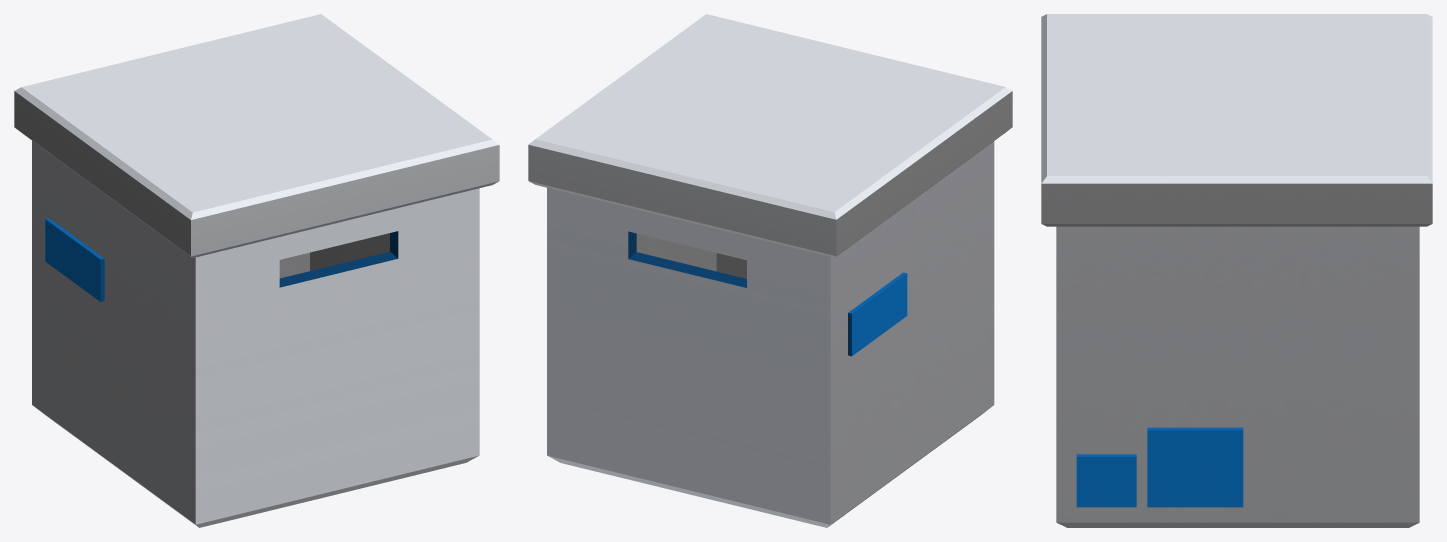
Rendered from SM_ArchiveBox02.fbx.
3 renders of one model, left to right at view 1: azimuth 30°, elevation 25°; view 2: azimuth 150°, elevation 25°; view 3: azimuth 270°, elevation 25°, orthographic. The views are drawn at different scales.
Parts seen in each view (by area): view 1: SM_Box002; view 2: SM_Box002; view 3: SM_Box002.
Part boxes in pixels (x1,y1,x2,y2): SM_Box002: (14, 14, 499, 527); SM_Box002: (528, 14, 1012, 527); SM_Box002: (1041, 14, 1432, 527).
Bounding box in the file's own units: 42.79 × 43.19 × 42.38.
1 material, 1 textured.
